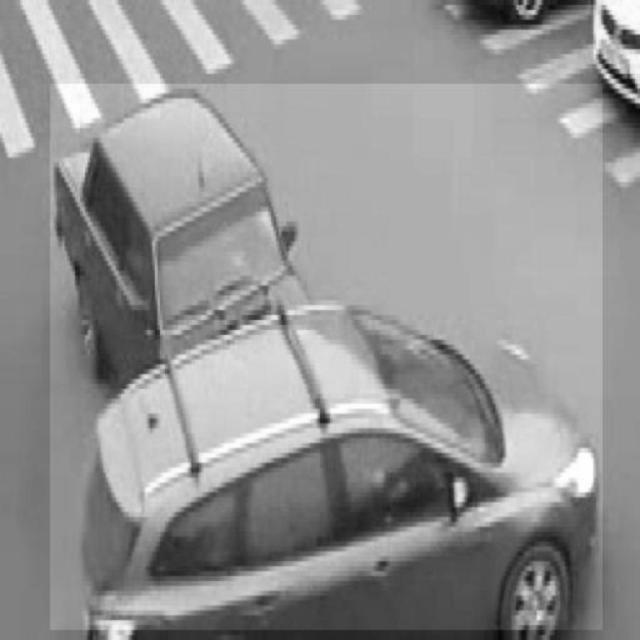accident: (51, 84, 603, 630)
